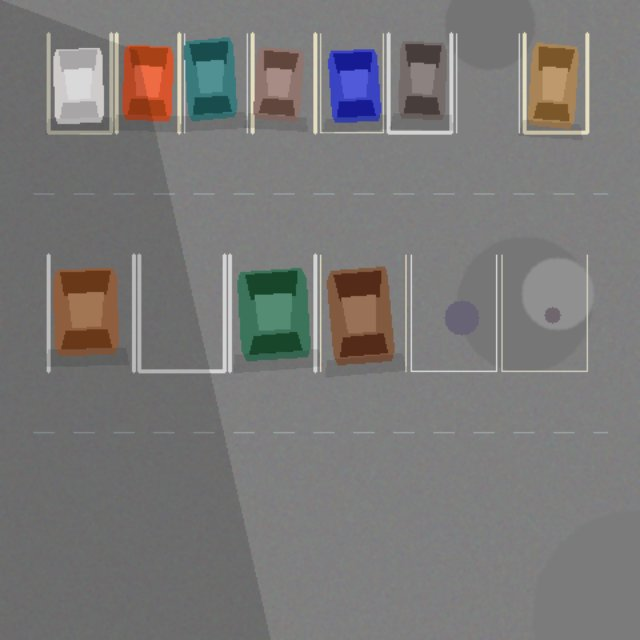space-empty: (501, 255, 587, 371), (139, 255, 224, 371), (411, 255, 496, 371), (456, 33, 519, 132)
space-occupied: (229, 255, 315, 371), (48, 255, 133, 371), (320, 255, 405, 371), (48, 33, 111, 132), (116, 33, 179, 132), (184, 33, 247, 132), (252, 33, 315, 132), (320, 33, 383, 132), (388, 33, 451, 132), (524, 33, 587, 132)
